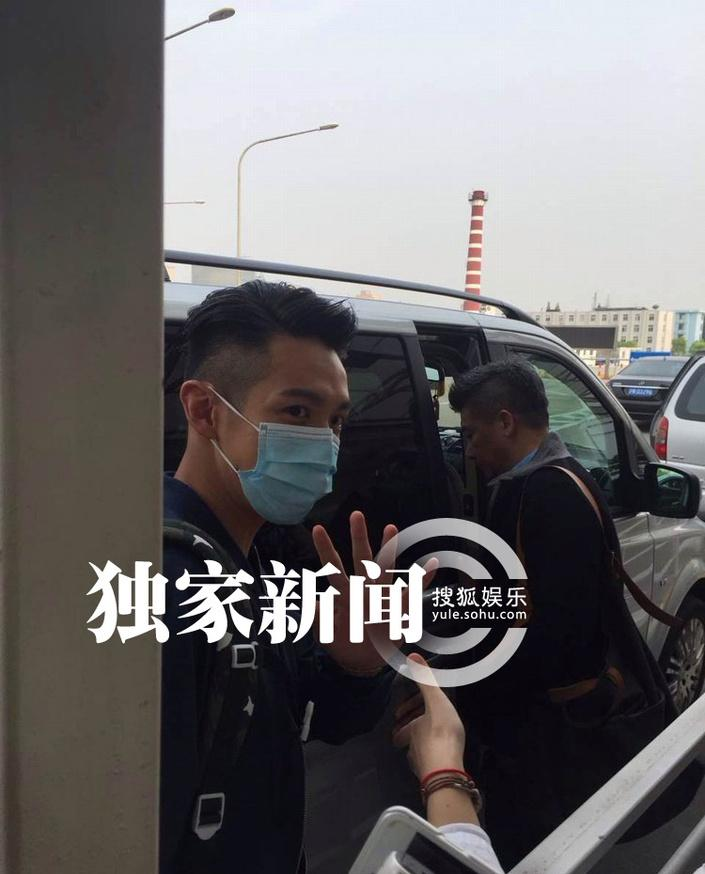face: (460, 403, 505, 481)
face_mask: (221, 335, 347, 528)
